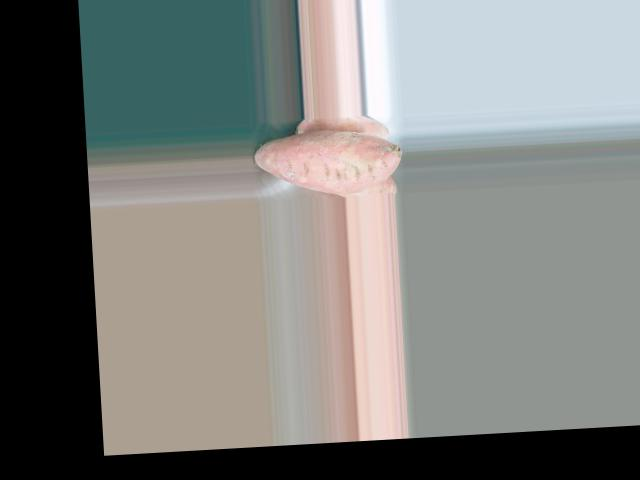sweet_potato: (254, 133, 404, 193)
